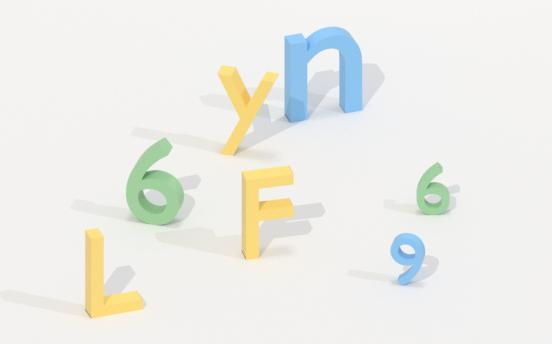6: (123, 138, 185, 225), (413, 163, 454, 216)
9: (386, 230, 430, 289)
F: (239, 164, 296, 259)
Y: (221, 66, 275, 164)
l: (80, 230, 146, 320)
n: (271, 23, 373, 124)
